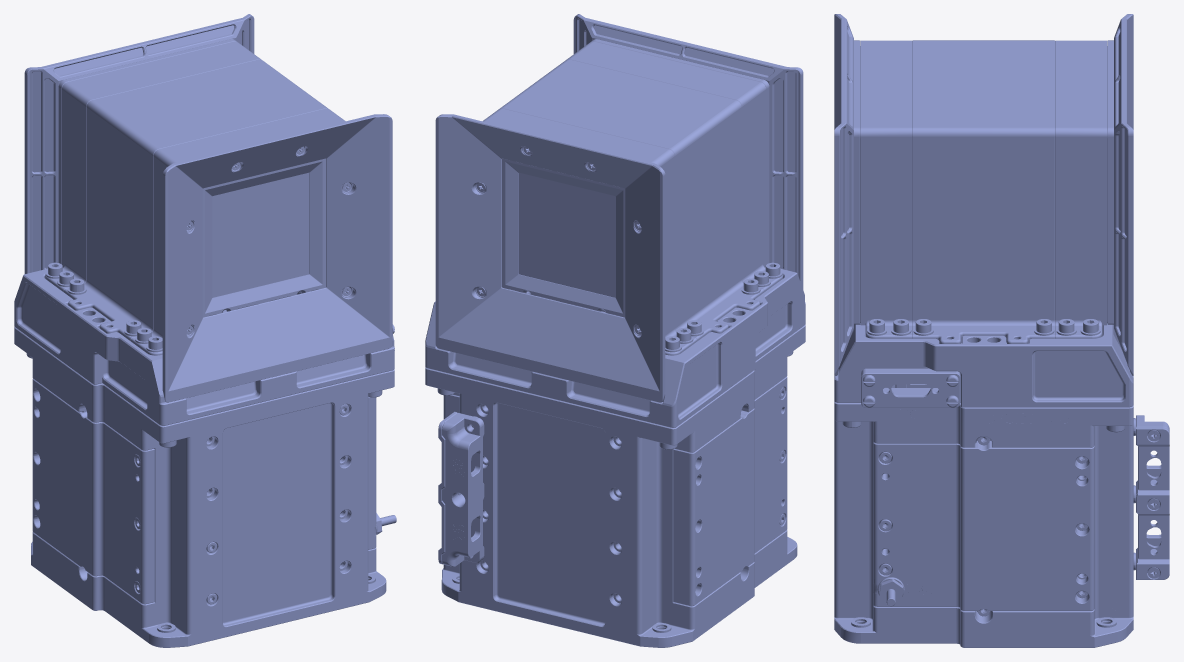
3 views of the same model, side by side, from view 1: azimuth 30°, elevation 25°; view 2: azimuth 150°, elevation 25°; view 3: azimuth 270°, elevation 25° (orthographic). The views are drawn at different scales.
Parts seen in each view (by area): view 1: A552.sldasm-Part-935 20240814 09_54-1, Window Extension 2.0-1, plan B-0719-v1.sldasm-Part-599, A552.sldasm-Part-193 20240814 09_54-1, __-0819.sldasm-Part-159-1, Window Extension 2.0, Chang'' E-7 Jh_1.sldasm-Part-281, plan B-0719-v1.sldasm-Part-596, Copy of Copy of Part3^Assem1_all-need-to-be-better0701ED3_21, plan B-0719-v1.sldasm-Part-596-1, A552.sldasm-Part-265 20240814 09_54-1; view 2: A552.sldasm-Part-935 20240814 09_54-1, Window Extension 2.0, plan B-0719-v1.sldasm-Part-599, A552.sldasm-Part-193 20240814 09_54-1, __-0819.sldasm-Part-159-1, Window Extension 2.0-1, Chang'' E-7 Jh_1.sldasm-Part-282, plan B-0719-v1.sldasm-Part-596-1, Copy of Copy of Part3^Assem1_all-need-to-be-better0701ED3_21, Chang'' E-7 Jh_1.sldasm-Part-279, plan B-0719-v1.sldasm-Part-596, Chang'' E-7 Jh_1.sldasm-Part-280; view 3: plan B-0719-v1.sldasm-Part-599, A552.sldasm-Part-265 20240814 09_54-1, A552.sldasm-Part-935 20240814 09_54-1, __-0819.sldasm-Part-159-1, plan B-0719-v1.sldasm-Part-596-1, plan B-0719-v1.sldasm-Part-596, Window Extension 2.0, Window Extension 2.0-1, Chang'' E-7 Jh_1.sldasm-Part-280, Part1^__-0829 20240903 11_46-1, Chang'' E-7 Jh_1.sldasm-Part-279, Chang'' E-7 Jh_1.sldasm-Part-239.
Part boxes in pixels (box(x1,y1,x2,y2)): A552.sldasm-Part-935 20240814 09_54-1: box(14, 327, 394, 647); Window Extension 2.0-1: box(162, 114, 392, 402); plan B-0719-v1.sldasm-Part-599: box(64, 59, 327, 341); A552.sldasm-Part-193 20240814 09_54-1: box(32, 378, 154, 604); __-0819.sldasm-Part-159-1: box(14, 267, 394, 425); Window Extension 2.0: box(24, 14, 254, 273); Chang'' E-7 Jh_1.sldasm-Part-281: box(212, 172, 309, 297); plan B-0719-v1.sldasm-Part-596: box(45, 41, 261, 292); Copy of Copy of Part3^Assem1_all-need-to-be-better0701ED3_21: box(202, 158, 326, 317); plan B-0719-v1.sldasm-Part-596-1: box(131, 108, 345, 355); A552.sldasm-Part-265 20240814 09_54-1: box(368, 397, 377, 549); A552.sldasm-Part-935 20240814 09_54-1: box(425, 325, 805, 647); Window Extension 2.0: box(435, 114, 665, 402); plan B-0719-v1.sldasm-Part-599: box(500, 59, 764, 340); A552.sldasm-Part-193 20240814 09_54-1: box(673, 376, 787, 606); __-0819.sldasm-Part-159-1: box(425, 267, 805, 427); Window Extension 2.0-1: box(573, 14, 803, 289); Chang'' E-7 Jh_1.sldasm-Part-282: box(519, 172, 615, 297); plan B-0719-v1.sldasm-Part-596-1: box(567, 41, 782, 291); Copy of Copy of Part3^Assem1_all-need-to-be-better0701ED3_21: box(502, 158, 625, 317); Chang'' E-7 Jh_1.sldasm-Part-279: box(442, 413, 484, 566); plan B-0719-v1.sldasm-Part-596: box(483, 108, 697, 355); Chang'' E-7 Jh_1.sldasm-Part-280: box(438, 411, 457, 564); plan B-0719-v1.sldasm-Part-599: box(912, 40, 1055, 343); A552.sldasm-Part-265 20240814 09_54-1: box(873, 439, 1094, 611); A552.sldasm-Part-935 20240814 09_54-1: box(834, 385, 1135, 647); __-0819.sldasm-Part-159-1: box(834, 323, 1133, 407); plan B-0719-v1.sldasm-Part-596-1: box(860, 40, 912, 338); plan B-0719-v1.sldasm-Part-596: box(1055, 40, 1107, 338); Window Extension 2.0: box(1107, 14, 1133, 375); Window Extension 2.0-1: box(834, 14, 860, 375); Chang'' E-7 Jh_1.sldasm-Part-280: box(1136, 427, 1169, 579); Part1^__-0829 20240903 11_46-1: box(861, 368, 960, 407); Chang'' E-7 Jh_1.sldasm-Part-279: box(1136, 415, 1169, 560); Chang'' E-7 Jh_1.sldasm-Part-239: box(879, 579, 902, 606).
Bounding box in the file's own units: 147 × 253 × 150.
